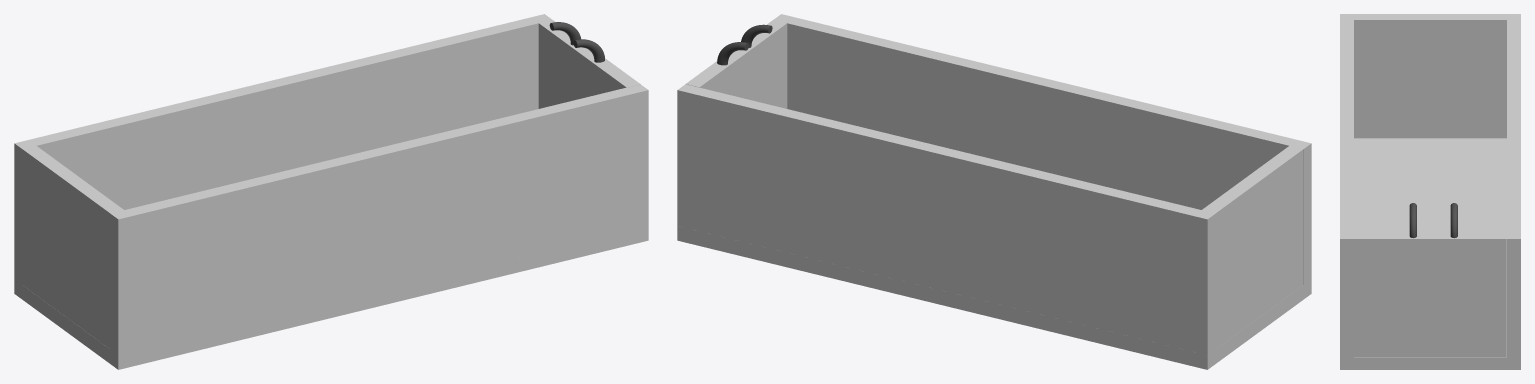
Rendered from Bath.fbx.
3 views of the same model, side by side, from view 1: azimuth 30°, elevation 25°; view 2: azimuth 150°, elevation 25°; view 3: azimuth 270°, elevation 25° (orthographic). The views are drawn at different scales.
Visible parts, largest first — view 1: root (×5); view 2: root (×5); view 3: root (×7).
Part boxes in pixels (x1,y1,x2,y2): root (×5): (14, 14, 648, 369); root (×5): (677, 14, 1311, 369); root (×7): (1340, 14, 1520, 369).
Bounding box in the file's own units: 2.57 × 0.8198 × 0.874.
Materials: 2 (1 with a texture image).
